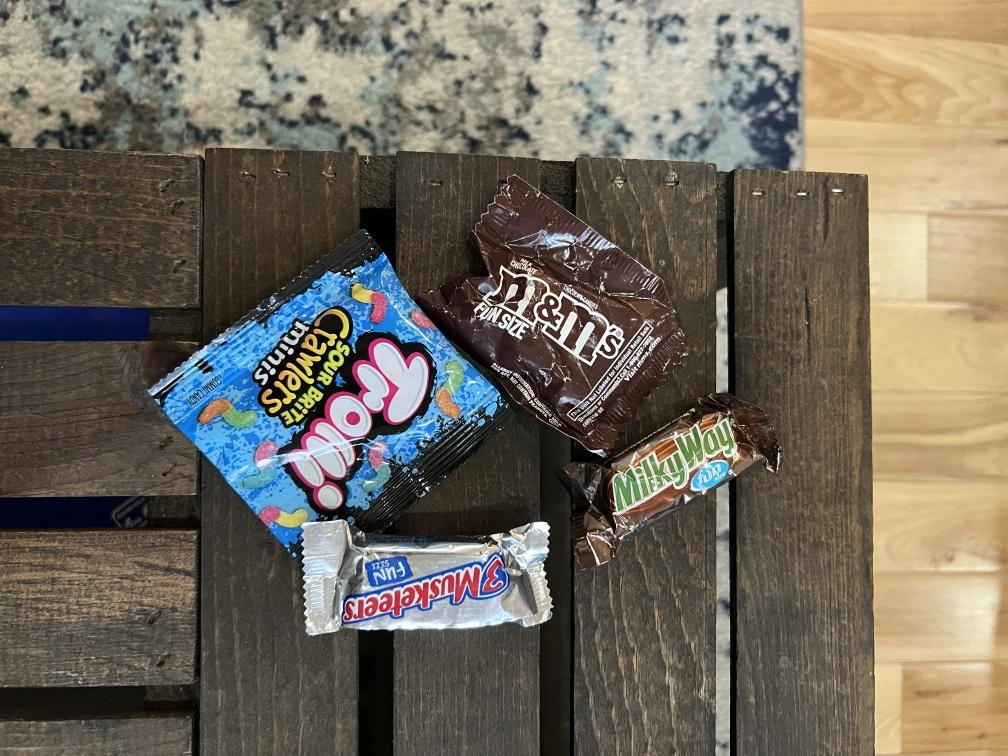MM_regular: (454, 177, 689, 450)
Trolli: (152, 235, 509, 548)
milky_way: (562, 396, 775, 564)
musketeers: (301, 519, 547, 634)
